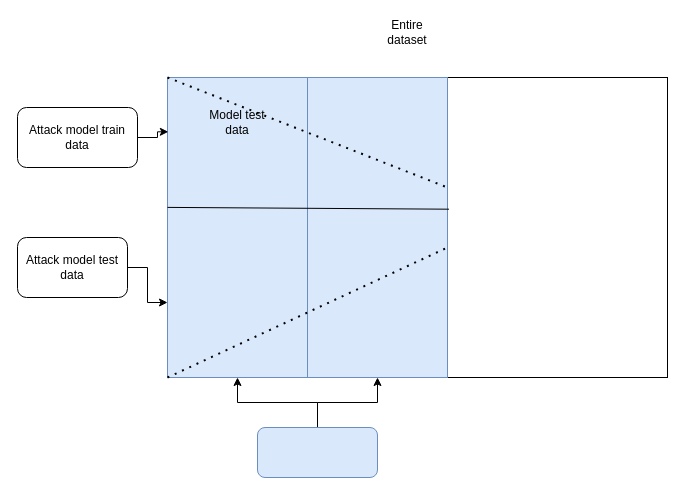
Some shapes in this 685 by 495 pixel diagram are drawn without their labels. Here are the shapes that lost their labels. From the top down, the centre of each, then its label:
point 377,227: Part of model training data
point 317,452: Entire dataset for attack model
